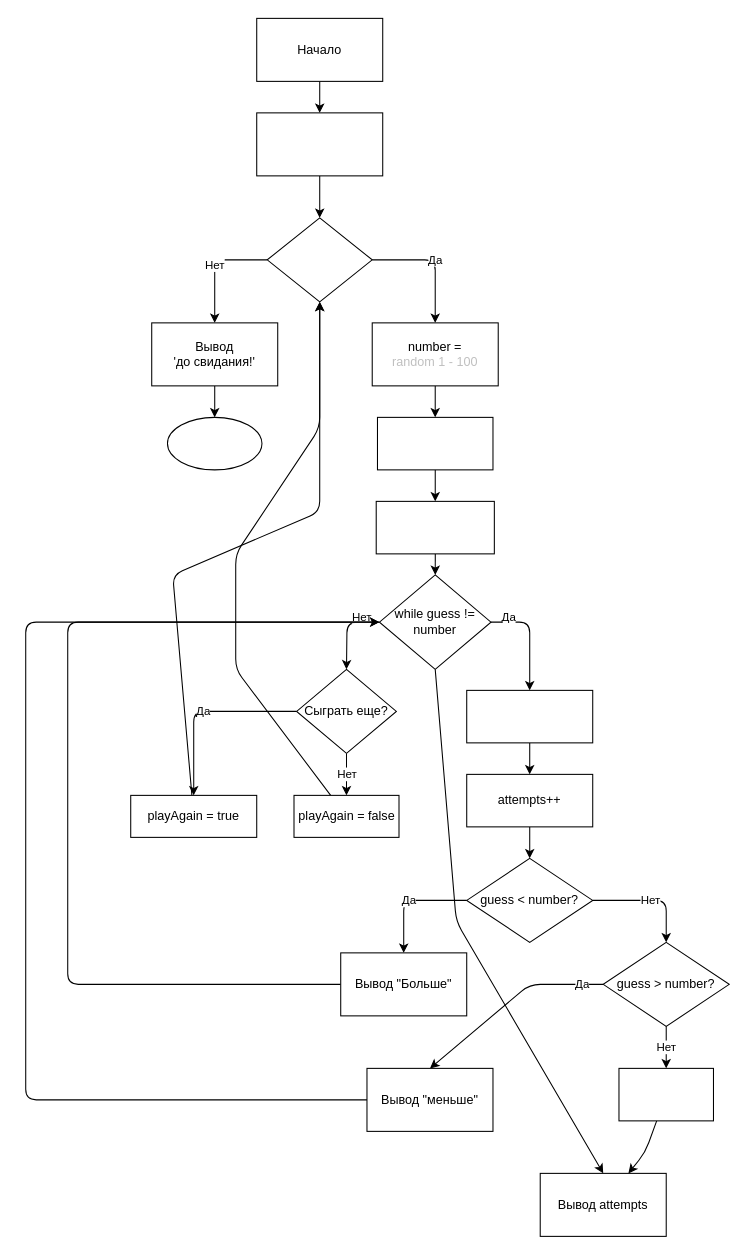
Some shapes in this 748 by 1255 pixel diagram are drawn without their labels. The shapes that lost their labels are listed below. From the top down, each one's centre as x and y in pixels, then its label:
pixel 319 144: play again = true
pixel 319 259: while playAgain
pixel 214 443: Конец
pixel 434 443: attempts = 0
pixel 434 527: guesses = 0
pixel 529 716: Ввод числа пользователем
pixel 665 1094: Вывод "Угадал"
